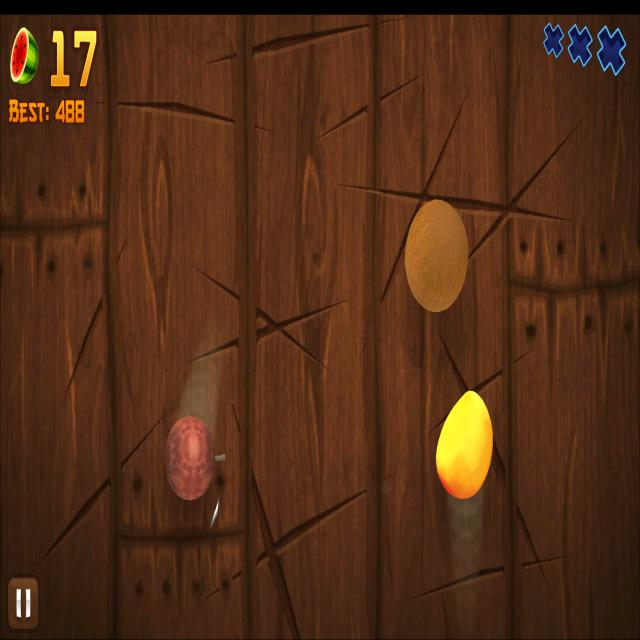fruit: (404, 196, 469, 314), (435, 388, 494, 502), (164, 413, 216, 503)
